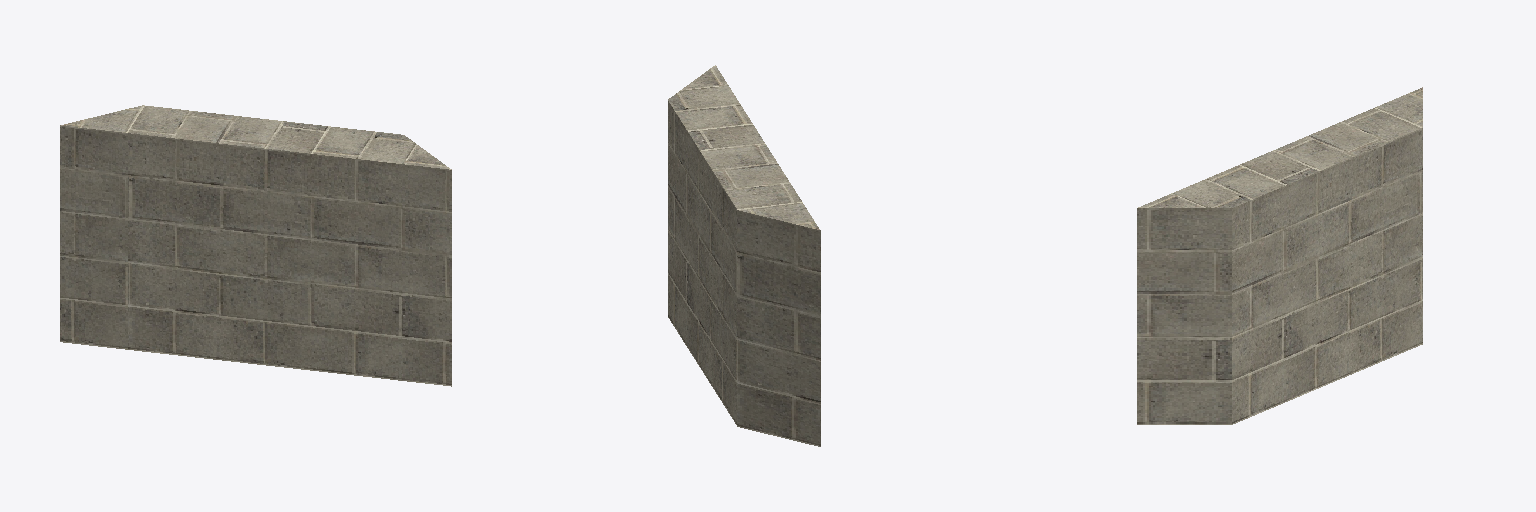
3 renders of one model, left to right at view 1: azimuth 30°, elevation 25°; view 2: azimuth 150°, elevation 25°; view 3: azimuth 270°, elevation 25°, orthographic.
Visible parts, largest first — view 1: Box03; view 2: Box03; view 3: Box03.
Boxes of the visible parts, x1=… form: Box03: x1=60, y1=105, x2=451, y2=386; Box03: x1=668, y1=65, x2=820, y2=446; Box03: x1=1137, y1=87, x2=1422, y2=424.
Size of the model in its own units: 0.6 by 0.5 by 0.6.
1 materials, 1 textured.